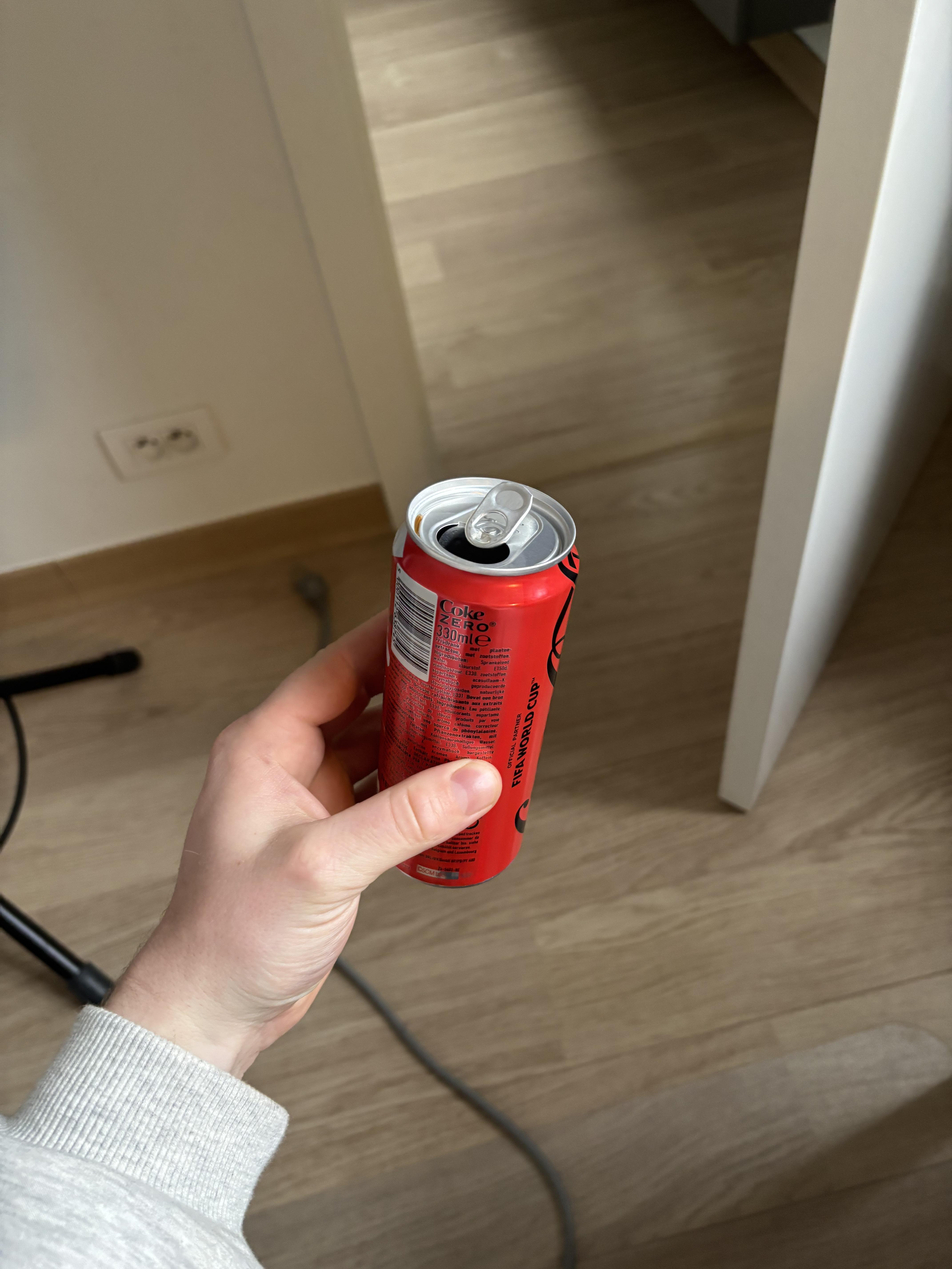Metal: (378, 471, 582, 898)
